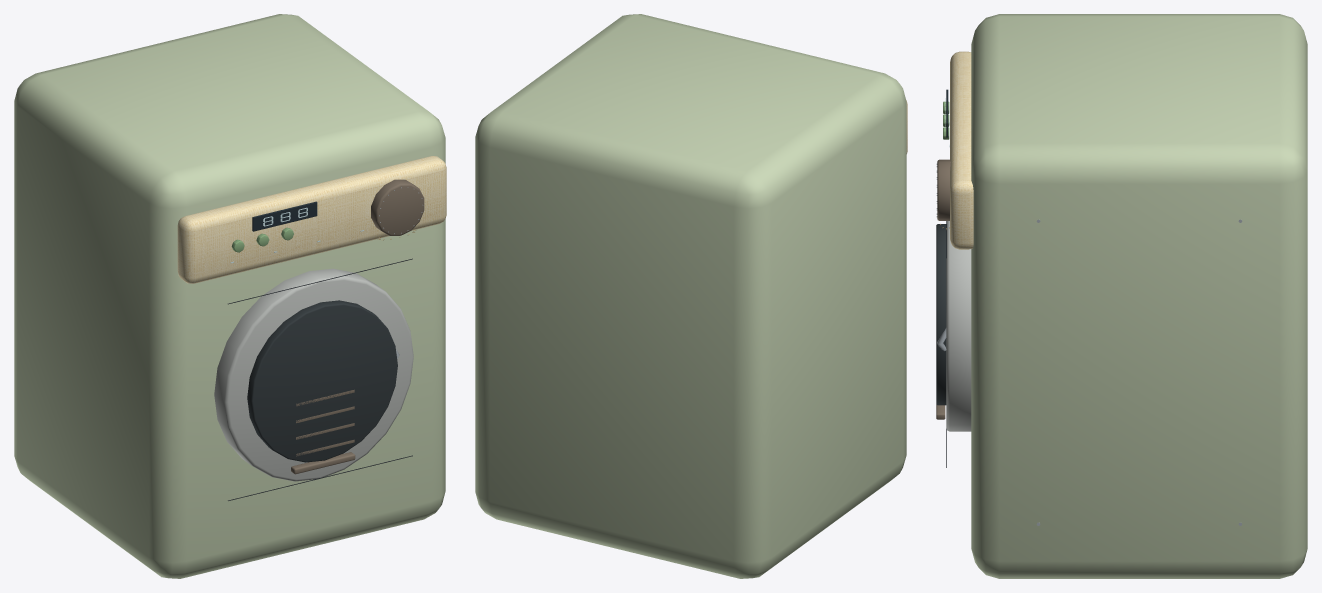
The model's file is dryer.glb.
The picture shows the model from 3 angles, left to right: view 1: azimuth 30°, elevation 25°; view 2: azimuth 150°, elevation 25°; view 3: azimuth 270°, elevation 25°; orthographic projection. The views are drawn at different scales.
Visible parts, largest first — view 1: dryer; view 2: dryer; view 3: dryer.
Boxes of the visible parts, bbox=[...] form: dryer: bbox=[14, 14, 446, 578]; dryer: bbox=[475, 14, 907, 578]; dryer: bbox=[936, 14, 1307, 578].
Bounding box in the file's own units: 0.68 × 0.9 × 0.7.
Materials: 11 (1 with a texture image).
